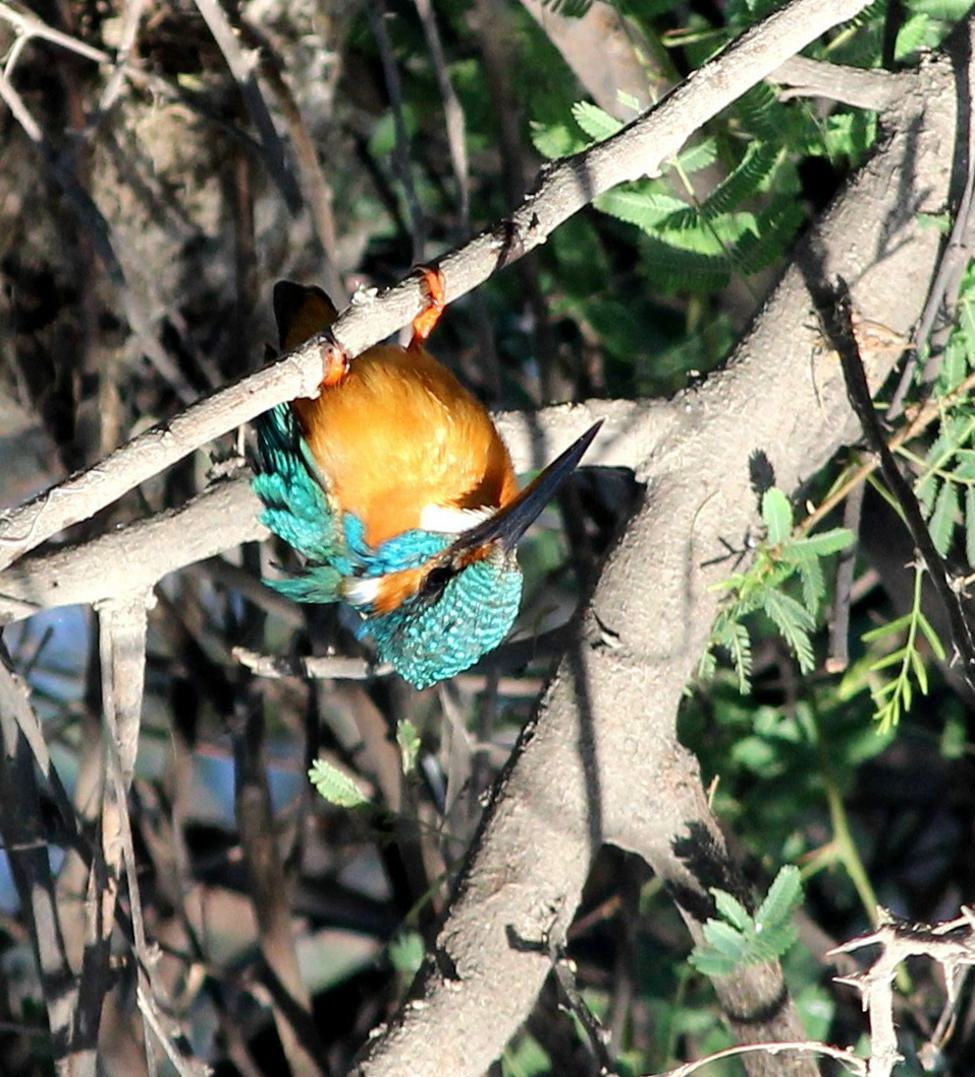kingfisher: (243, 243, 597, 691)
